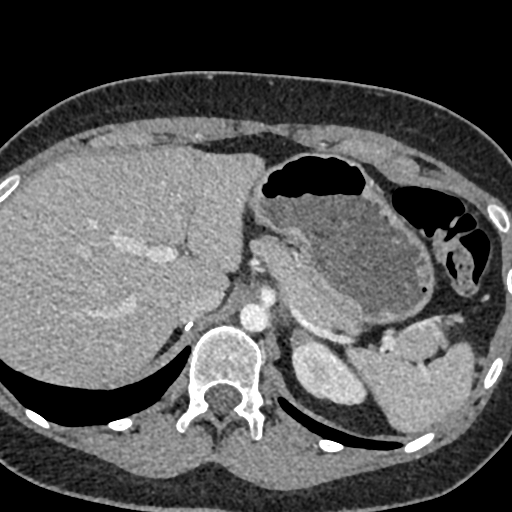Lesion: (284, 325, 315, 356)
